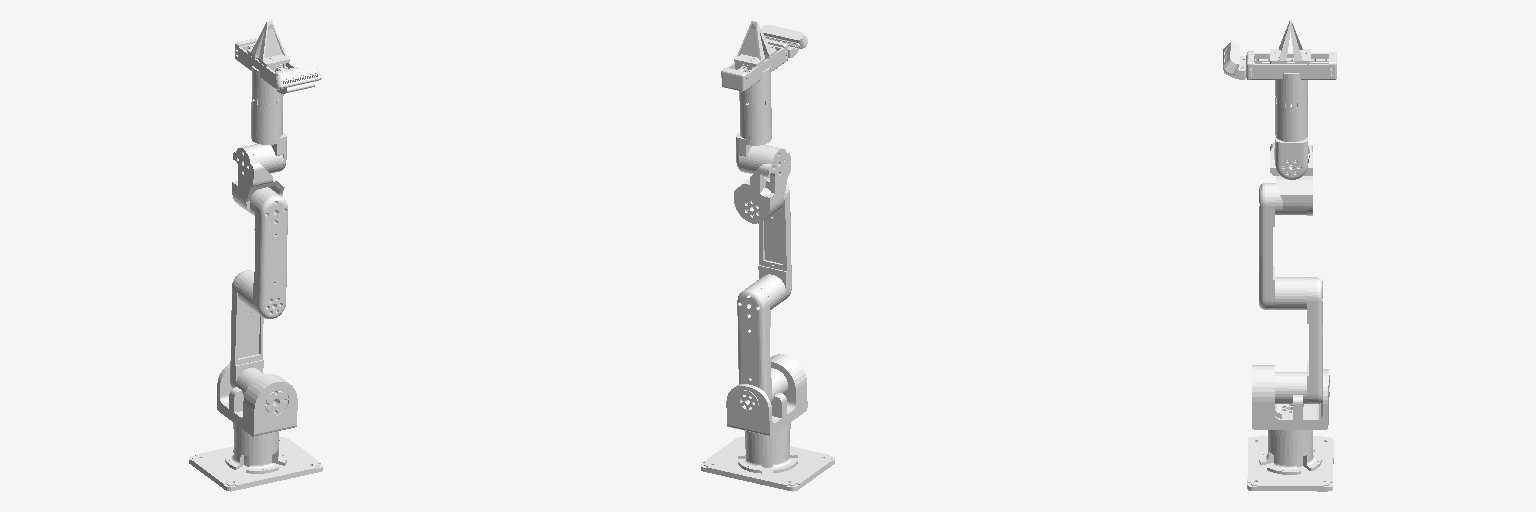
robot.urdf — miku_dummy:
<?xml version="1.0" encoding="utf-8"?>
<!-- This URDF was automatically created by SolidWorks to URDF Exporter! Originally created by Stephen Brawner (brawner@gmail.com) 
     Commit Version: 1.6.0-4-g7f85cfe  Build Version: 1.6.7995.38578
     For more information, please see http://wiki.ros.org/sw_urdf_exporter -->
<robot
  name="miku_dummy">
  <link
    name="base_link">
    <inertial>
      <origin
        xyz="0.010645 -0.010486 1.5689E-05"
        rpy="0 0 0" />
      <mass
        value="0.65234" />
      <inertia
        ixx="0.00083423"
        ixy="2.0603E-05"
        ixz="-2.48E-06"
        iyy="0.0018578"
        iyz="4.4884E-07"
        izz="0.0012592" />
    </inertial>
    <visual>
      <origin
        xyz="0 0 0"
        rpy="0 0 0" />
      <geometry>
        <mesh
          filename="package://arm_control/meshes/base_link.STL" />
      </geometry>
      <material
        name="">
        <color
          rgba="1 1 1 1" />
      </material>
    </visual>
    <collision>
      <origin
        xyz="0 0 0"
        rpy="0 0 0" />
      <geometry>
        <mesh
          filename="package://arm_control/meshes/base_link.STL" />
      </geometry>
    </collision>
  </link>
    <link name="world"/>
  <joint name="world_joint" type="fixed">
  	<origin xyz="0 0 0.05" rpy="0 0 0"/>  <!-- Place the robot wherever you want -->
        <parent link="world"/>
        <child link="base_link"/>  <!-- replace this name with your robot's base link -->
  </joint>
  <link
    name="link_1">
    <inertial>
      <origin
        xyz="0.000633370299924666 -0.010196668583567 0.065408783417204"
        rpy="0 0 0" />
      <mass
        value="0.692425105141899" />
      <inertia
        ixx="0.00143622623294635"
        ixy="-6.68061216094941E-06"
        ixz="-1.17692934301956E-05"
        iyy="0.000828966782862348"
        iyz="0.000212725566549657"
        izz="0.00137510741508073" />
    </inertial>
    <visual>
      <origin
        xyz="0 0 0"
        rpy="0 0 0" />
      <geometry>
        <mesh
          filename="package://arm_control/meshes/link_1.STL" />
      </geometry>
      <material
        name="">
        <color
          rgba="1 1 1 1" />
      </material>
    </visual>
    <collision>
      <origin
        xyz="0 0 0"
        rpy="0 0 0" />
      <geometry>
        <mesh
          filename="package://arm_control/meshes/link_1.STL" />
      </geometry>
    </collision>
  </link>
  <joint
    name="joint_1"
    type="revolute">
    <origin
      xyz="0.011409 -4.0956E-05 0.027483"
      rpy="0.00054808 0 -0.0058653" />
    <parent
      link="base_link" />
    <child
      link="link_1" />
    <axis
      xyz="0.020115 0 0.9998" />
    <limit
      lower="-2.3562"
      upper="2.3562"
      effort="9"
      velocity="0.5" />
  </joint>
  <link
    name="link_2">
    <inertial>
      <origin
        xyz="1.069E-08 0.11068 0.0057686"
        rpy="0 0 0" />
      <mass
        value="0.68644" />
      <inertia
        ixx="0.0026635"
        ixy="-6.862E-11"
        ixz="-1.4098E-10"
        iyy="0.00023475"
        iyz="1.5737E-05"
        izz="0.0027619" />
    </inertial>
    <visual>
      <origin
        xyz="0 0 0"
        rpy="0 0 0" />
      <geometry>
        <mesh
          filename="package://arm_control/meshes/link_2.STL" />
      </geometry>
      <material
        name="">
        <color
          rgba="1 1 1 1" />
      </material>
    </visual>
    <collision>
      <origin
        xyz="0 0 0"
        rpy="0 0 0" />
      <geometry>
        <mesh
          filename="package://arm_control/meshes/link_2.STL" />
      </geometry>
    </collision>
  </link>
  <joint
    name="joint_2"
    type="revolute">
    <origin
      xyz="0.0017299 0.0291 0.085983"
      rpy="1.5708 -0.020116 3.1416" />
    <parent
      link="link_1" />
    <child
      link="link_2" />
    <axis
      xyz="0 0 1" />
    <limit
      lower="-1.5708"
      upper="1.5708"
      effort="9"
      velocity="0.5" />
  </joint>
  <link
    name="link_3">
    <inertial>
      <origin
        xyz="-1.9471E-08 -0.11005 0.0061165"
        rpy="0 0 0" />
      <mass
        value="0.7374" />
      <inertia
        ixx="0.0028522"
        ixy="-6.4004E-11"
        ixz="2.3705E-10"
        iyy="0.00025113"
        iyz="1.0602E-06"
        izz="0.0029667" />
    </inertial>
    <visual>
      <origin
        xyz="0 0 0"
        rpy="0 0 0" />
      <geometry>
        <mesh
          filename="package://arm_control/meshes/link_3.STL" />
      </geometry>
      <material
        name="">
        <color
          rgba="1 1 1 1" />
      </material>
    </visual>
    <collision>
      <origin
        xyz="0 0 0"
        rpy="0 0 0" />
      <geometry>
        <mesh
          filename="package://arm_control/meshes/link_3.STL" />
      </geometry>
    </collision>
  </link>
  <joint
    name="joint_3"
    type="revolute">
    <origin
      xyz="0 0.184 -0.0565"
      rpy="3.1416 0 0" />
    <parent
      link="link_2" />
    <child
      link="link_3" />
    <axis
      xyz="0 0 1" />
    <limit
      lower="-1.5707963267949"
      upper="1.5707963267949"
      effort="9"
      velocity="0.5" />
  </joint>
  <link
    name="link_4">
    <inertial>
      <origin
        xyz="0.00759705800409484 0.0496282903516812 -0.0216047613259382"
        rpy="0 0 0" />
      <mass
        value="0.60268642518722" />
      <inertia
        ixx="0.000676640205250624"
        ixy="-0.000138027342753275"
        ixz="6.36871838709533E-05"
        iyy="0.000520624855922666"
        iyz="0.000140769176144584"
        izz="0.000687786145664773" />
    </inertial>
    <visual>
      <origin
        xyz="0 0 0"
        rpy="0 0 0" />
      <geometry>
        <mesh
          filename="package://arm_control/meshes/link_4.STL" />
      </geometry>
      <material
        name="">
        <color
          rgba="1 1 1 1" />
      </material>
    </visual>
    <collision>
      <origin
        xyz="0 0 0"
        rpy="0 0 0" />
      <geometry>
        <mesh
          filename="package://arm_control/meshes/link_4.STL" />
      </geometry>
    </collision>
  </link>
  <joint
    name="joint_4"
    type="revolute">
    <origin
      xyz="0 -0.184 -0.0565"
      rpy="-3.1416 0 0" />
    <parent
      link="link_3" />
    <child
      link="link_4" />
    <axis
      xyz="0 0 1" />
    <limit
      lower="-1.5707963267949"
      upper="1.5707963267949"
      effort="9"
      velocity="0.5" />
  </joint>
  <link
    name="link_5">
    <inertial>
      <origin
        xyz="-0.0150821538144421 0.0603003412972294 -8.84788967553357E-05"
        rpy="0 0 0" />
      <mass
        value="0.209320593665094" />
      <inertia
        ixx="0.000109769760788772"
        ixy="9.73354310837211E-06"
        ixz="3.00623006278532E-08"
        iyy="8.79733880585506E-05"
        iyz="5.71032059338492E-08"
        izz="0.0001046455150777" />
    </inertial>
    <visual>
      <origin
        xyz="0 0 0"
        rpy="0 0 0" />
      <geometry>
        <mesh
          filename="package://arm_control/meshes/link_5.STL" />
      </geometry>
      <material
        name="">
        <color
          rgba="1 1 1 1" />
      </material>
    </visual>
    <collision>
      <origin
        xyz="0 0 0"
        rpy="0 0 0" />
      <geometry>
        <mesh
          filename="package://arm_control/meshes/link_5.STL" />
      </geometry>
    </collision>
  </link>
  <joint
    name="joint_5"
    type="revolute">
    <origin
      xyz="-0.03 0.0815 -0.0266"
      rpy="3.1416 -0.0058665 -3.1416" />
    <parent
      link="link_4" />
    <child
      link="link_5" />
    <axis
      xyz="1 0 0" />
    <limit
      lower="-1.5708"
      upper="1.5708"
      effort="9"
      velocity="0.5" />
  </joint>
  <link
    name="link_6">
    <inertial>
      <origin
        xyz="-4.5319E-06 -0.025505 0.072487"
        rpy="0 0 0" />
      <mass
        value="0.57248" />
      <inertia
        ixx="0.00046739"
        ixy="-3.0967E-08"
        ixz="2.1342E-07"
        iyy="0.00019306"
        iyz="-3.6872E-06"
        izz="0.00054284" />
    </inertial>
    <visual>
      <origin
        xyz="0 0 0"
        rpy="0 0 0" />
      <geometry>
        <mesh
          filename="package://arm_control/meshes/link_6.STL" />
      </geometry>
      <material
        name="">
        <color
          rgba="1 1 1 1" />
      </material>
    </visual>
    <collision>
      <origin
        xyz="0 0 0"
        rpy="0 0 0" />
      <geometry>
        <mesh
          filename="package://arm_control/meshes/link_6.STL" />
      </geometry>
    </collision>
  </link>
  <joint
    name="joint_6"
    type="revolute">
    <origin
      xyz="-0.0195 0.105 -0.0001144"
      rpy="-1.5708 -0.0058665 0" />
    <parent
      link="link_5" />
    <child
      link="link_6" />
    <axis
      xyz="0 0 1" />
    <limit
      lower="-2.3562"
      upper="2.3562"
      effort="9"
      velocity="0.5" />
  </joint>
</robot>

--- Render facts (derived) ---
The picture shows the robot from 3 angles, left to right: view 1: azimuth 30°, elevation 25°; view 2: azimuth 150°, elevation 25°; view 3: azimuth 270°, elevation 25°; orthographic projection.
Model miku_dummy with 8 links and 7 joints (6 revolute, 1 fixed), rooted at world, posed every joint at zero.
Visible links, largest first — view 1: base_link, link_1, link_3, link_6, link_2, link_4, link_5; view 2: base_link, link_6, link_1, link_2, link_4, link_3, link_5; view 3: base_link, link_6, link_1, link_2, link_3, link_5, link_4.
Boxes of the visible links, bbox=[...] form: base_link: bbox=[189, 423, 322, 491]; link_1: bbox=[217, 363, 297, 436]; link_3: bbox=[241, 187, 287, 318]; link_6: bbox=[235, 20, 321, 110]; link_2: bbox=[230, 270, 263, 388]; link_4: bbox=[232, 144, 284, 209]; link_5: bbox=[251, 105, 286, 170]; base_link: bbox=[701, 423, 834, 491]; link_6: bbox=[721, 20, 807, 111]; link_1: bbox=[726, 354, 807, 435]; link_2: bbox=[737, 274, 785, 409]; link_4: bbox=[734, 145, 790, 223]; link_3: bbox=[753, 185, 791, 299]; link_5: bbox=[736, 107, 771, 171]; base_link: bbox=[1247, 430, 1333, 491]; link_6: bbox=[1223, 20, 1336, 112]; link_1: bbox=[1252, 365, 1329, 429]; link_2: bbox=[1275, 277, 1322, 403]; link_3: bbox=[1259, 183, 1306, 309]; link_5: bbox=[1275, 107, 1307, 179]; link_4: bbox=[1270, 143, 1312, 215].
Size in the robot's own frame: 0.2009 by 0.1995 by 0.8733 metres.
7 mesh visuals loaded from 7 distinct referenced files (7 binary STL).
